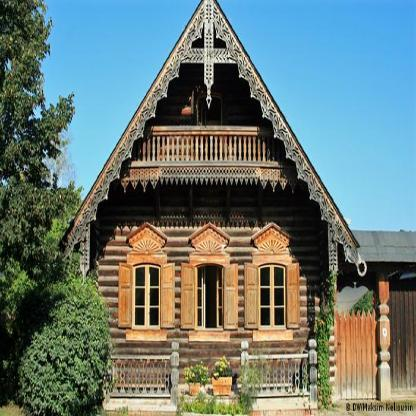Balcony: (116, 125, 302, 170)
Blind: (244, 262, 259, 329), (181, 262, 196, 329), (118, 262, 133, 328), (160, 263, 175, 328), (223, 264, 238, 329), (286, 263, 300, 329)
Building Outline: (58, 0, 416, 411)
Cornice: (251, 222, 292, 256), (188, 221, 230, 254)
Dont: (0, 0, 118, 416), (175, 357, 275, 416), (184, 355, 237, 396)
Door: (337, 307, 379, 400), (198, 99, 221, 168)
Facade: (97, 178, 321, 411)
Floor Slab: (102, 170, 316, 178)
Ground Floor: (97, 178, 321, 411)
Roof: (58, 0, 361, 264), (351, 230, 416, 263)
Top Floor: (102, 0, 316, 170)
Window: (259, 263, 286, 329), (133, 263, 160, 329), (196, 263, 223, 329)
Window Outline: (188, 221, 230, 340), (126, 221, 168, 340), (251, 222, 292, 341)
